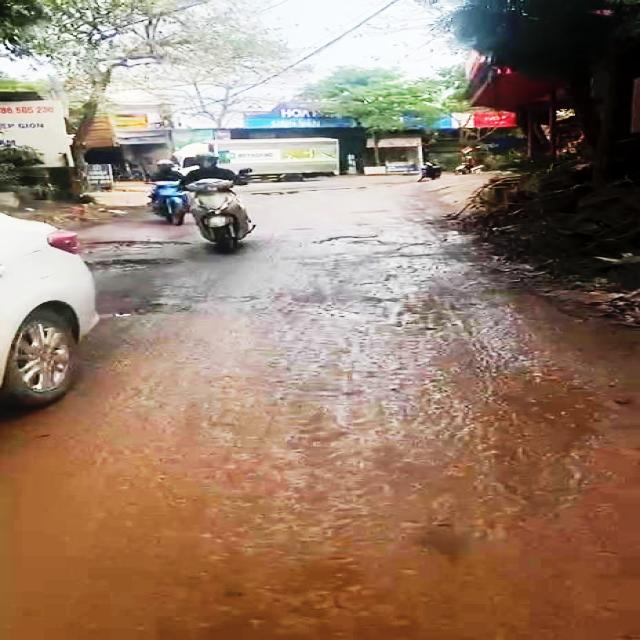pothole: (74, 254, 185, 275), (316, 232, 433, 250), (88, 235, 202, 248), (102, 300, 189, 317)
